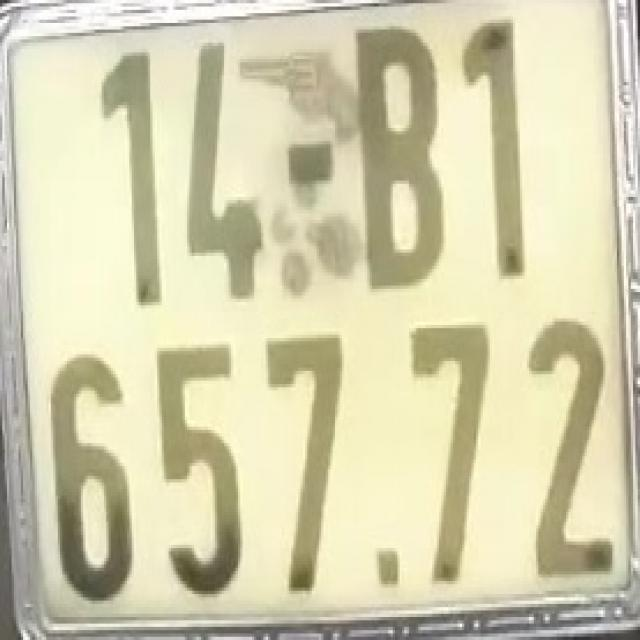1: (92, 39, 174, 312), (458, 13, 540, 282)
2: (518, 305, 620, 584)
4: (180, 39, 270, 306)
5: (152, 332, 248, 598)
6: (44, 344, 136, 604)
7: (399, 308, 496, 588), (261, 322, 349, 594)
B: (344, 17, 452, 296)
